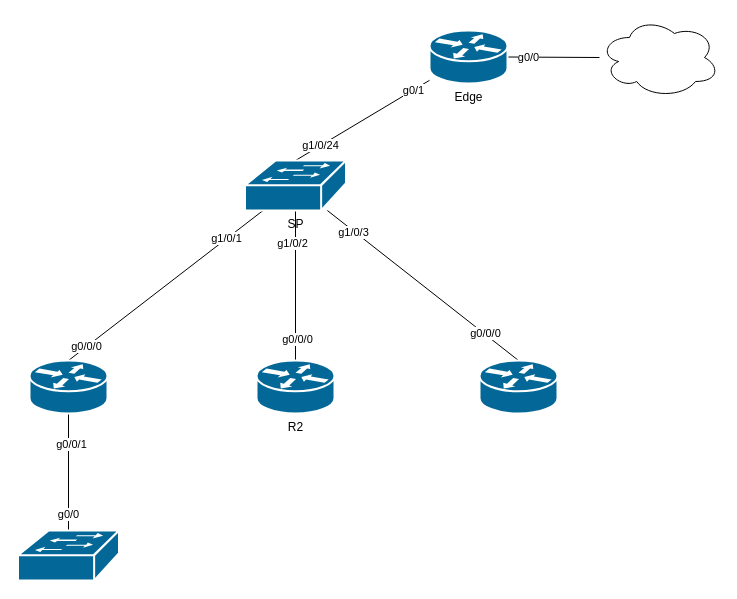
This 737x599 diagram has some shape labels left out. The box of each missing label's shape, as (x1, y1, x2, y2) in pixels:
R1: (28, 359, 108, 414)
R3: (478, 359, 558, 414)
